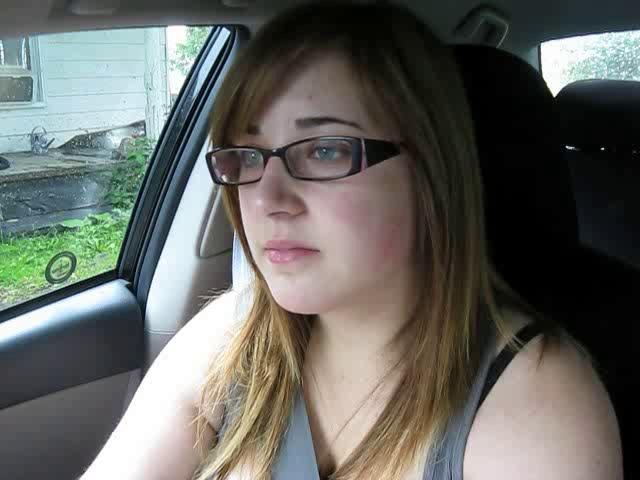no_yawn: (247, 227, 335, 280)
open_eyeL: (222, 139, 278, 181)
open_eyeR: (290, 130, 371, 180)
